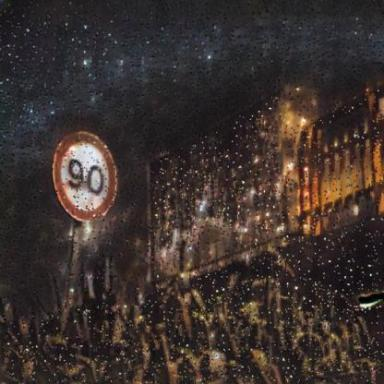Speed_limit_90: (55, 133, 117, 219)
